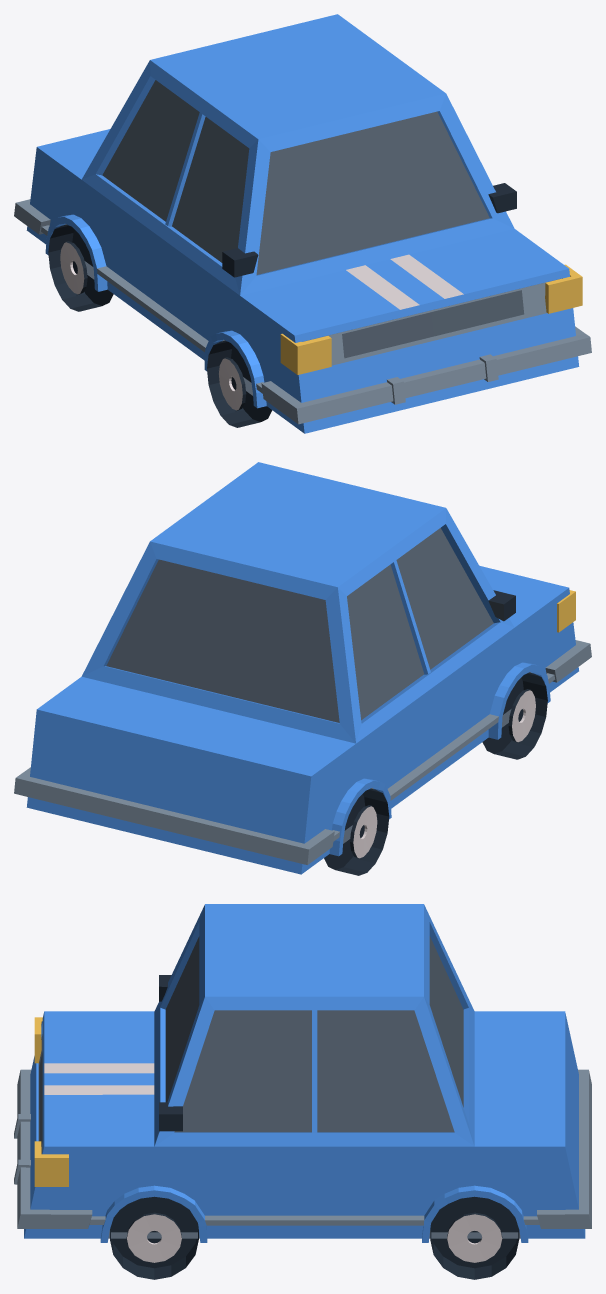
File: car8.fbx
3 renders of one model, top to bottom at view 1: azimuth 30°, elevation 25°; view 2: azimuth 150°, elevation 25°; view 3: azimuth 270°, elevation 25°, orthographic.
Parts seen in each view (by area): view 1: purple.016; view 2: purple.016; view 3: purple.016.
Part boxes in pixels (<box>): purple.016: <box>14,14,591,433</box>; purple.016: <box>14,462,591,875</box>; purple.016: <box>14,904,591,1279</box>.
Size of the model in its own units: 216 by 177 by 361.
